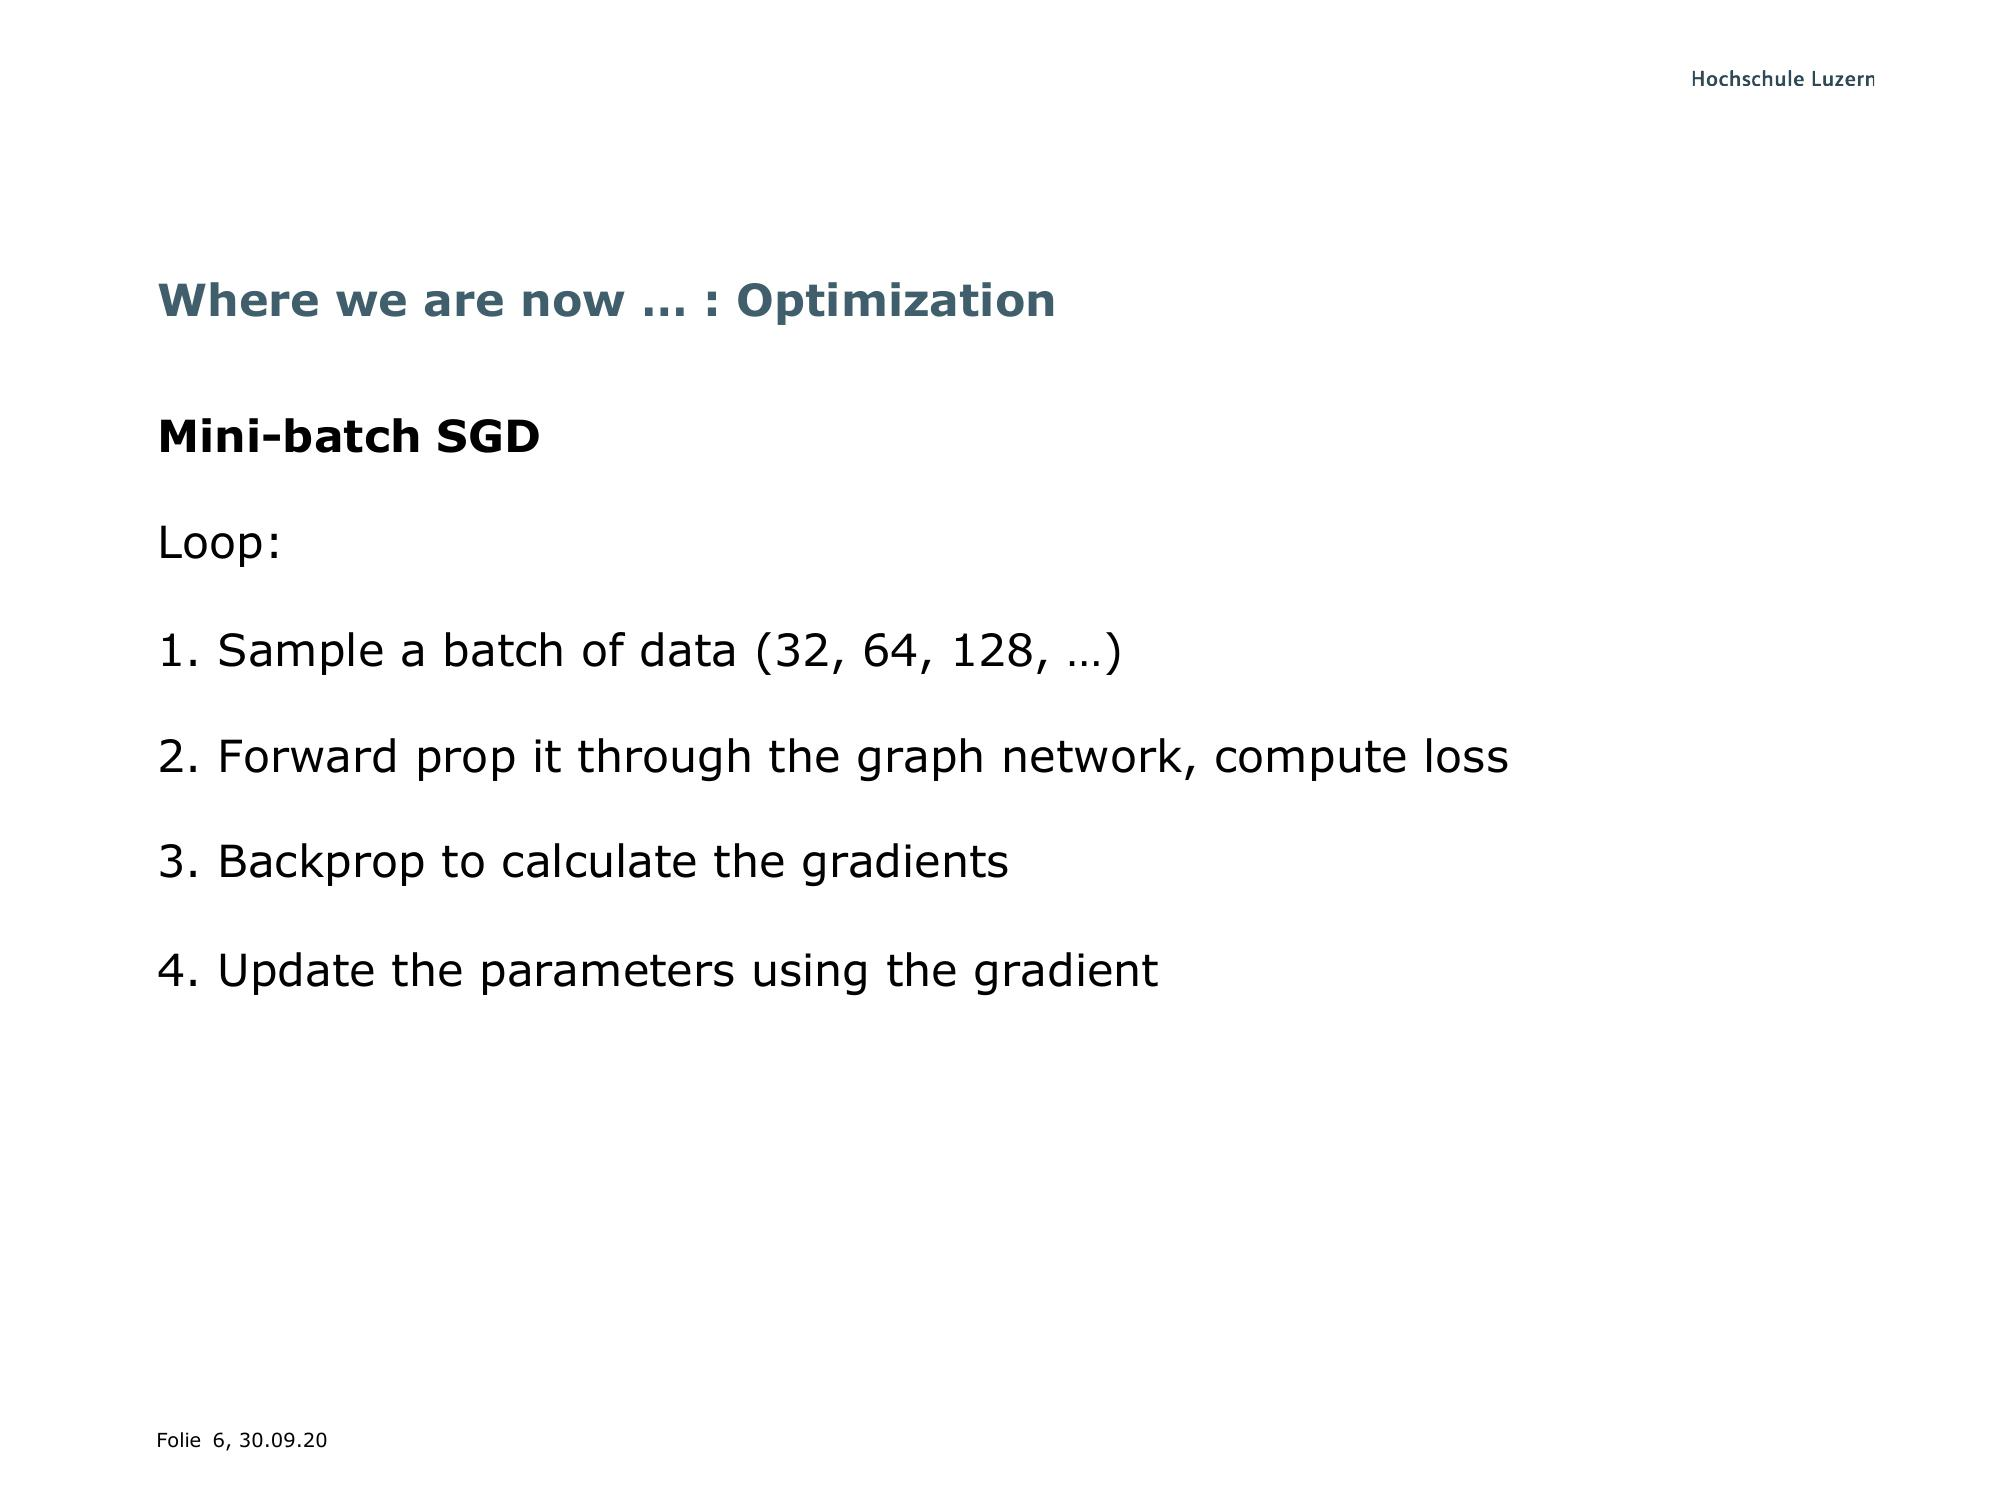Title: (161, 258, 1072, 336)
